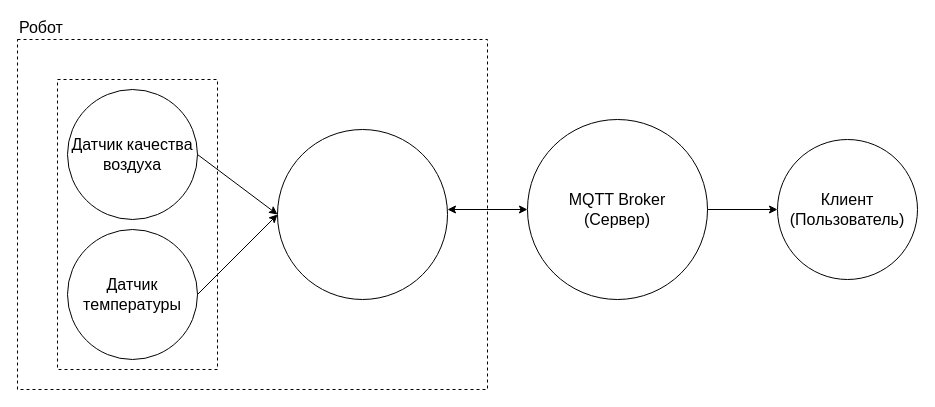
The diagram is 935 pixels wide and 407 high, and some of its shapes have lost their labels. Each missing label, with the box of its shape:
Модуль: (56, 78, 218, 370)
Основная часть робота: (276, 128, 448, 300)
